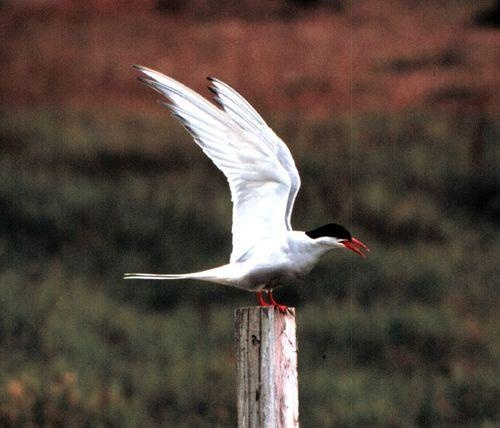bird: (124, 60, 371, 310)
